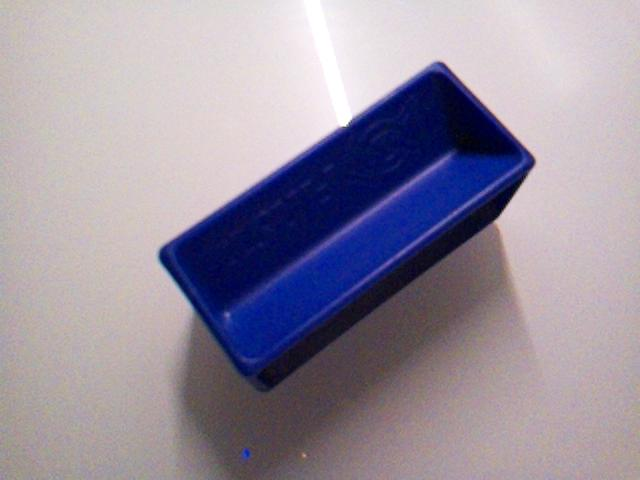blue: (157, 60, 537, 393)
